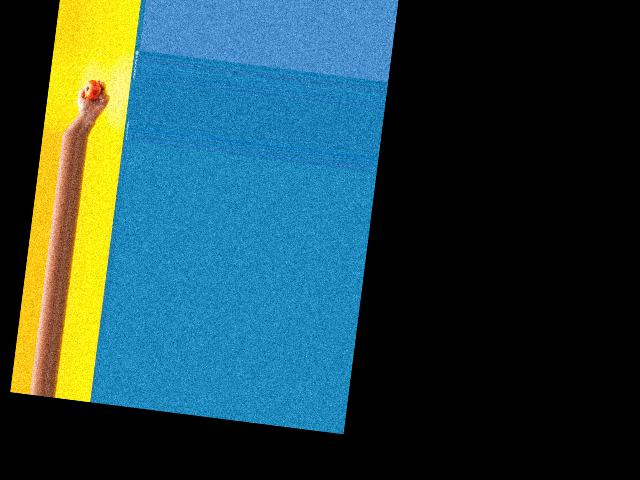tomato: (83, 79, 102, 100)
